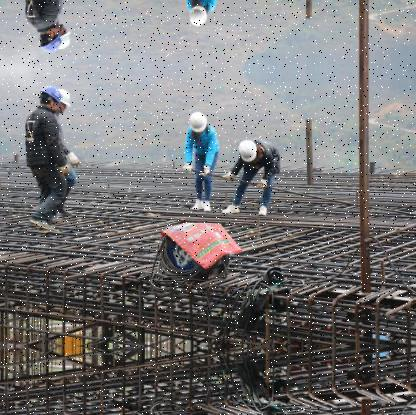helmet: (188, 106, 210, 135), (188, 2, 210, 31), (39, 86, 64, 111), (39, 26, 64, 51), (238, 136, 262, 160), (57, 86, 71, 114), (57, 22, 71, 50)
